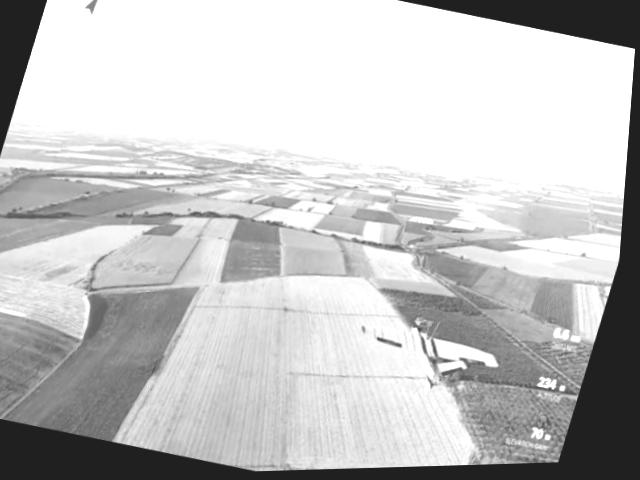hedef: (349, 301, 520, 419)
